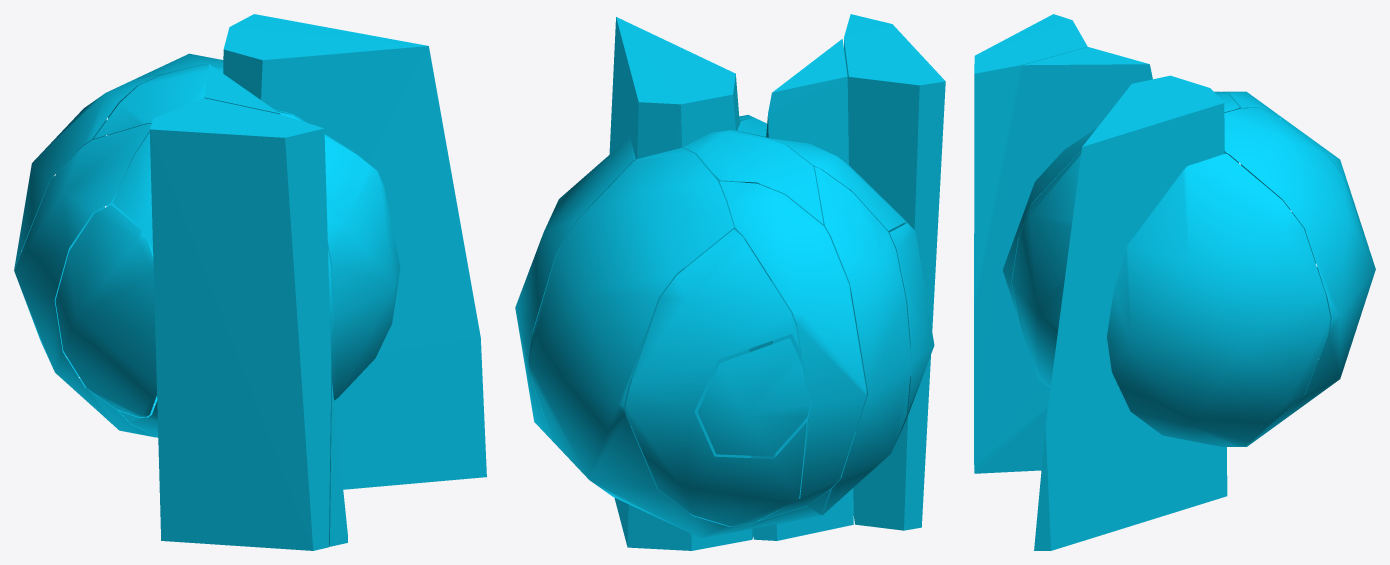
The model's file is sphereLarge.fbx.
3 views of the same model, side by side, from view 1: azimuth 30°, elevation 25°; view 2: azimuth 150°, elevation 25°; view 3: azimuth 270°, elevation 25° (orthographic). The views are drawn at different scales.
Parts seen in each view (by area): view 1: SphereGemLarge_cell.014, SphereGemLarge_cell.002, SphereGemLarge_cell, SphereGemLarge_cell.012, SphereGemLarge_cell.001, SphereGemLarge_cell.003, SphereGemLarge_cell.008, SphereGemLarge_cell.015, SphereGemLarge_cell.009, SphereGemLarge_cell.005; view 2: SphereGemLarge_cell.005, SphereGemLarge_cell.010, SphereGemLarge_cell.014, SphereGemLarge_cell.003, SphereGemLarge_cell.002, SphereGemLarge_cell.001, SphereGemLarge_cell.015, SphereGemLarge_cell.006, SphereGemLarge_cell.011, SphereGemLarge_cell.008, SphereGemLarge_cell, SphereGemLarge_cell.009 (+1 smaller); view 3: SphereGemLarge_cell.011, SphereGemLarge_cell.002, SphereGemLarge_cell.015, SphereGemLarge_cell.005, SphereGemLarge_cell.014, SphereGemLarge_cell.012, SphereGemLarge_cell.004, SphereGemLarge_cell.010, SphereGemLarge_cell.003.
Boxes of the visible parts, x1,y1,x2,y2 form: SphereGemLarge_cell.014: (149, 98, 331, 550); SphereGemLarge_cell.002: (223, 14, 486, 489); SphereGemLarge_cell: (55, 204, 156, 417); SphereGemLarge_cell.012: (278, 112, 400, 400); SphereGemLarge_cell.001: (14, 123, 155, 437); SphereGemLarge_cell.003: (14, 75, 158, 377); SphereGemLarge_cell.008: (94, 64, 223, 138); SphereGemLarge_cell.015: (204, 64, 347, 546); SphereGemLarge_cell.009: (112, 132, 152, 250); SphereGemLarge_cell.005: (106, 53, 223, 404); SphereGemLarge_cell.005: (528, 148, 752, 538); SphereGemLarge_cell.010: (625, 229, 806, 526); SphereGemLarge_cell.014: (844, 14, 945, 530); SphereGemLarge_cell.003: (719, 181, 866, 520); SphereGemLarge_cell.002: (609, 17, 753, 550); SphereGemLarge_cell.001: (814, 167, 911, 515); SphereGemLarge_cell.015: (750, 39, 853, 540); SphereGemLarge_cell.006: (697, 338, 809, 456); SphereGemLarge_cell.011: (515, 137, 635, 440); SphereGemLarge_cell.008: (684, 130, 823, 224); SphereGemLarge_cell: (889, 223, 934, 439); SphereGemLarge_cell.009: (770, 138, 909, 230); SphereGemLarge_cell.011: (1107, 153, 1330, 446); SphereGemLarge_cell.002: (1034, 75, 1227, 550); SphereGemLarge_cell.015: (974, 47, 1152, 473); SphereGemLarge_cell.005: (1224, 107, 1375, 446); SphereGemLarge_cell.014: (974, 14, 1087, 464); SphereGemLarge_cell.012: (1011, 151, 1081, 387); SphereGemLarge_cell.004: (1002, 127, 1097, 322); SphereGemLarge_cell.010: (1276, 114, 1368, 358); SphereGemLarge_cell.003: (1222, 91, 1290, 210).
Bounding box in the file's own units: 68.5 × 76.84 × 71.8.
